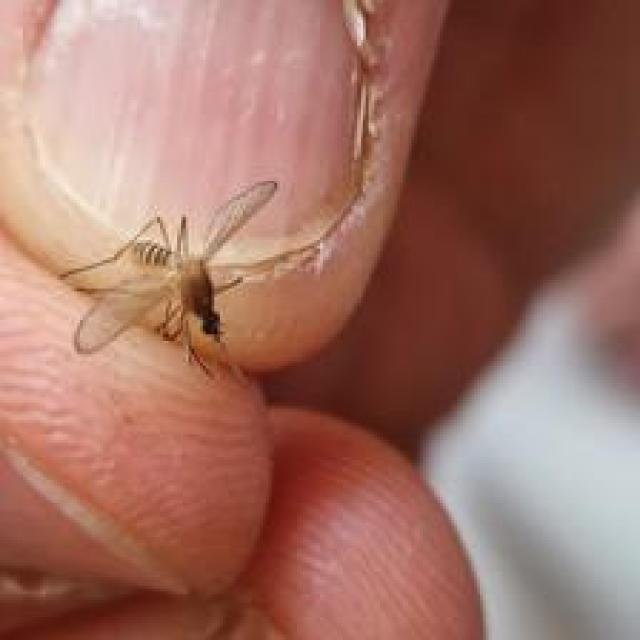Culex: (56, 176, 324, 381)
